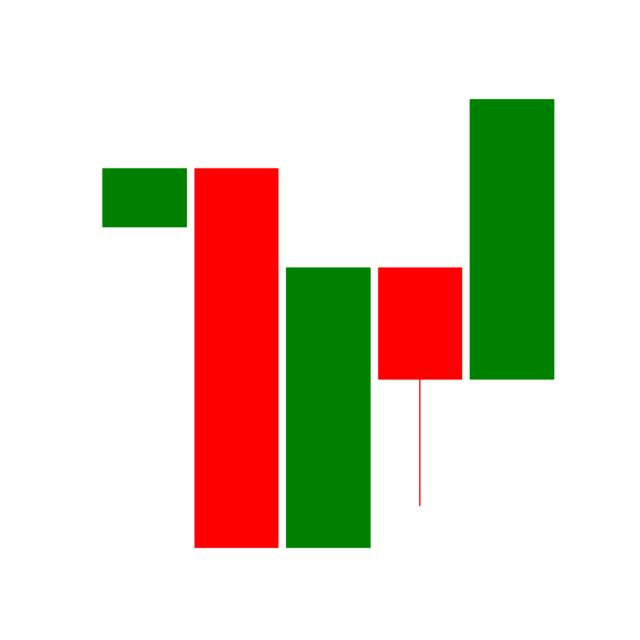Bearish Marubozu: (190, 164, 282, 550)
Bullish Marubozu: (467, 95, 560, 382), (285, 262, 373, 552), (98, 166, 185, 230)
Hanging Man: (376, 264, 465, 508)
